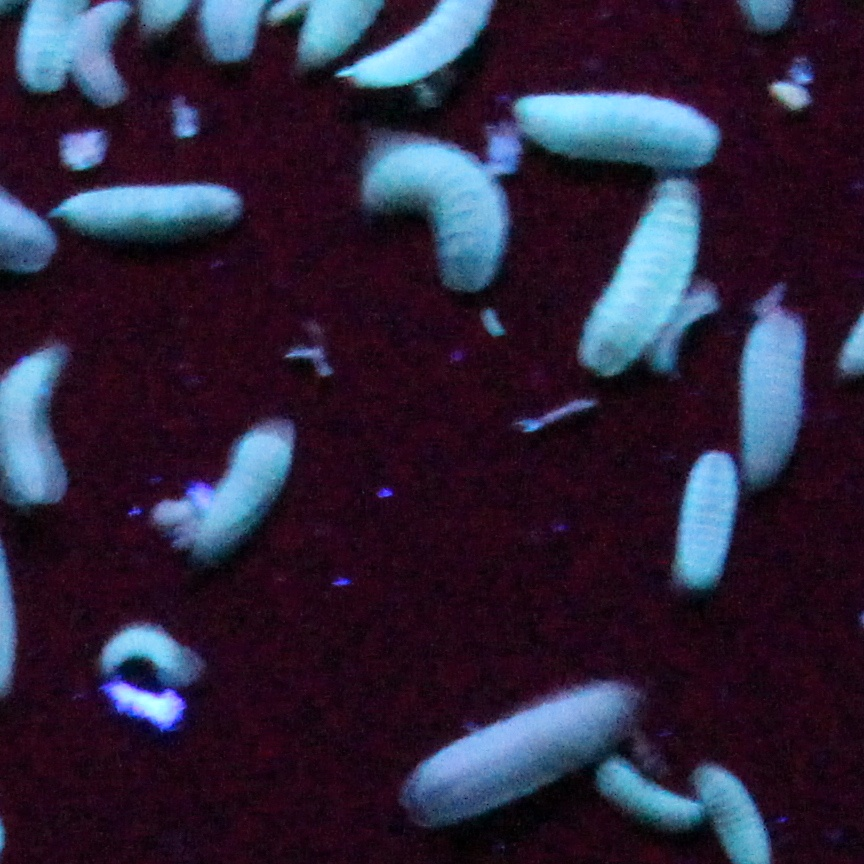larve: (408, 682, 639, 804), (578, 180, 697, 367), (376, 134, 503, 295), (517, 90, 723, 171), (186, 422, 292, 554), (737, 295, 800, 471), (598, 744, 701, 832), (8, 331, 57, 509), (101, 608, 198, 689), (58, 191, 239, 234), (682, 451, 732, 592)
